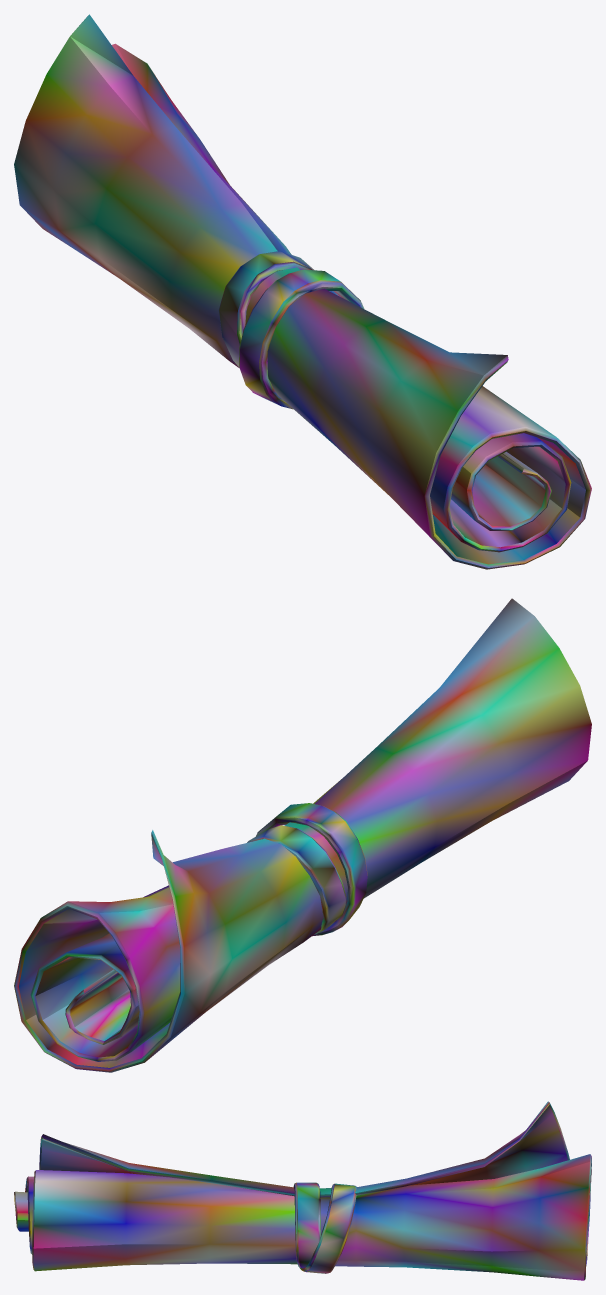
File: Parchment.fbx
3 renders of one model, top to bottom at view 1: azimuth 30°, elevation 25°; view 2: azimuth 150°, elevation 25°; view 3: azimuth 270°, elevation 25°, orthographic. The views are drawn at different scales.
Visible parts, largest first — view 1: Parchment; view 2: Parchment; view 3: Parchment.
Boxes of the visible parts, bbox=[...] form: Parchment: bbox=[14, 14, 591, 569]; Parchment: bbox=[14, 598, 591, 1072]; Parchment: bbox=[14, 1101, 591, 1280].
Size of the model in its own units: 36.64 by 45.85 by 151.
